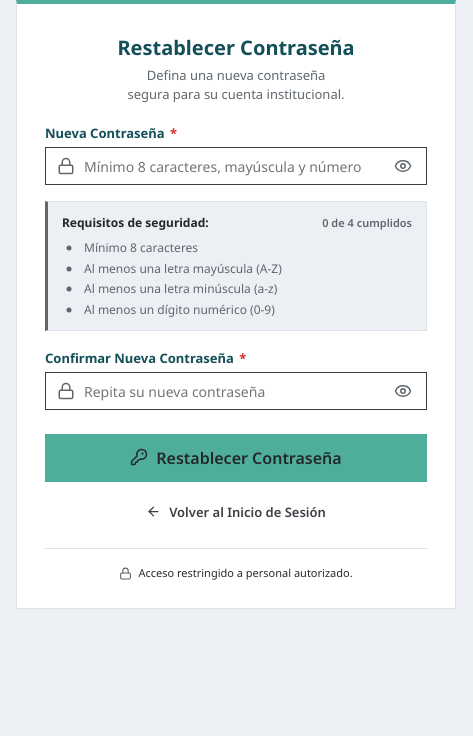
Test: RestablecerContrasenaForm (HU-65) › Cuando se provee token en la URL › debe mostrar alerta de error si el servidor rechaza el restablecimiento (ej. token expirado o contraseña repetida)
In the password field labelled "Nueva Contraseña *": (236, 166) x1=45 y1=147 x2=427 y2=185, type "Valdivia2026!"
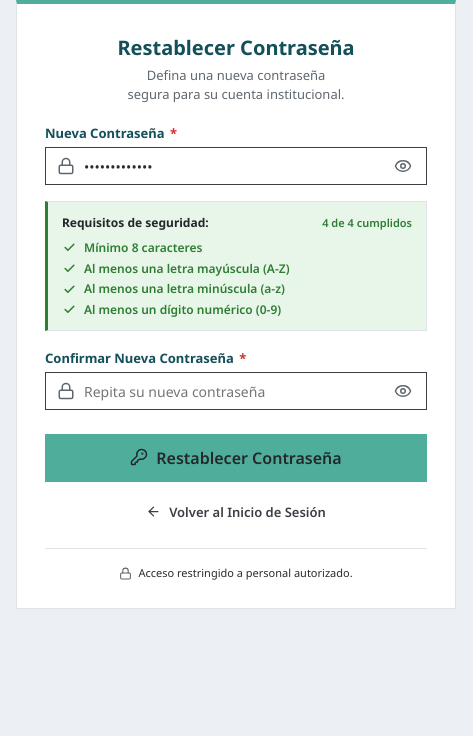
In the password field labelled "Confirmar Nueva Contraseña *": (236, 391) x1=45 y1=372 x2=427 y2=410, type "Valdivia2026!"
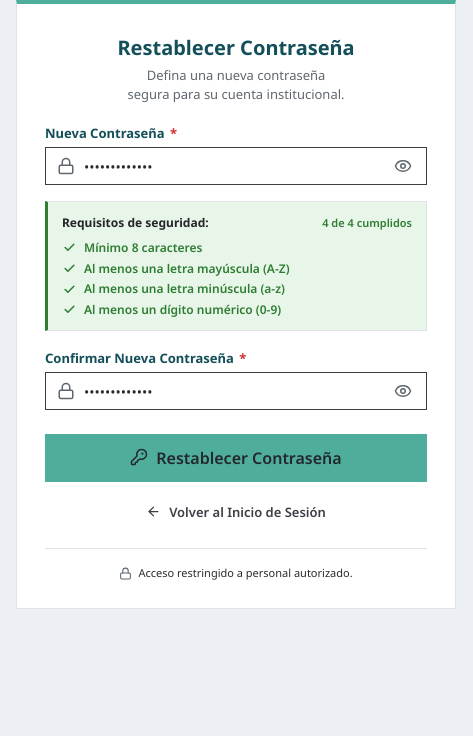
Click the button "Restablecer Contraseña": (236, 458) x1=45 y1=434 x2=427 y2=482
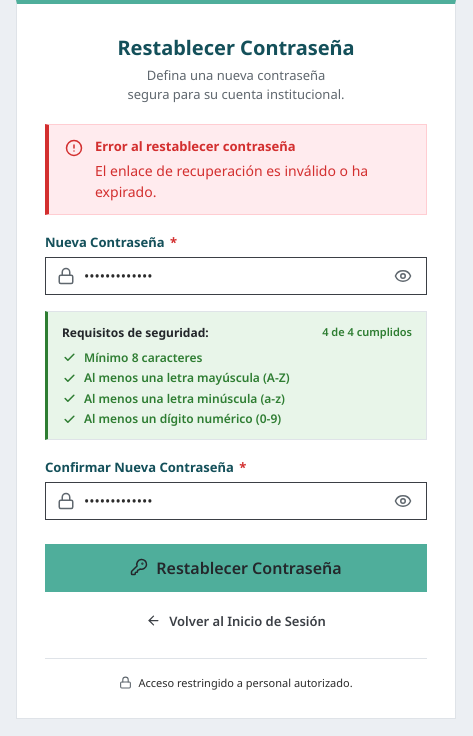
Expected: the text "El enlace de recuperación es inválido o ha expirado." is shown, x1=95 y1=160 x2=410 y2=202
